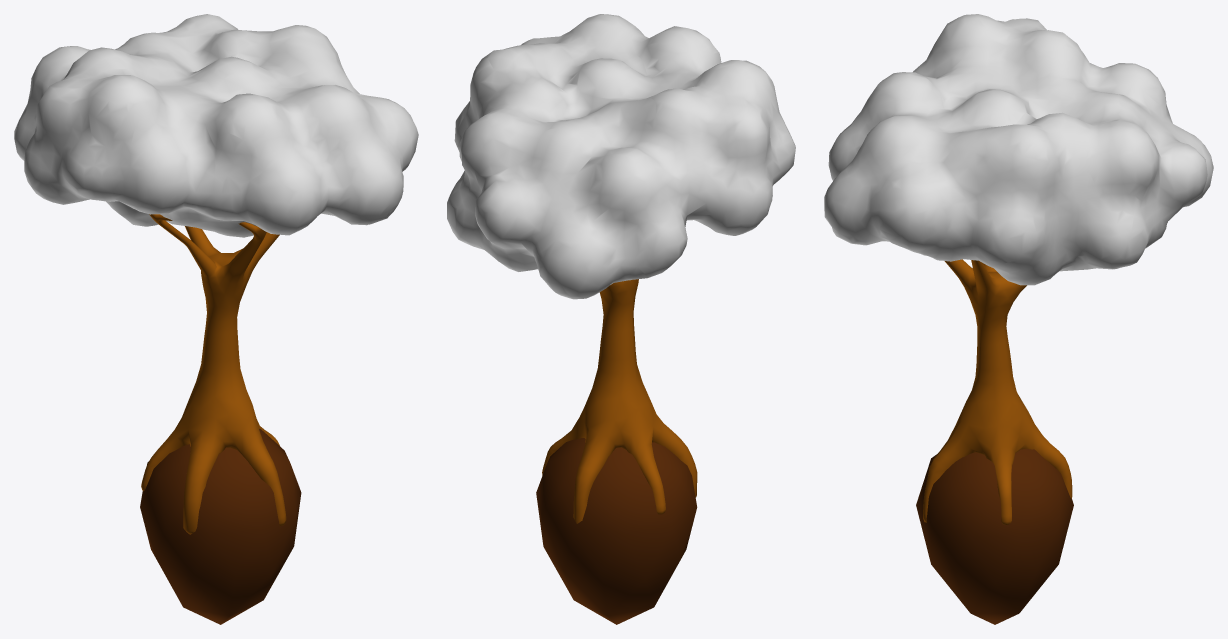
The model's file is sdsdf.fbx.
3 renders of one model, left to right at view 1: azimuth 30°, elevation 25°; view 2: azimuth 150°, elevation 25°; view 3: azimuth 270°, elevation 25°, orthographic. The views are drawn at different scales.
Parts seen in each view (by area): view 1: МСфера.002; view 2: МСфера.002; view 3: МСфера.002.
Part boxes in pixels (x1,y1,x2,y2): МСфера.002: (14,14,418,624); МСфера.002: (447,14,795,624); МСфера.002: (824,14,1213,624).
Bounding box in the file's own units: 1400 × 2415 × 1532.
